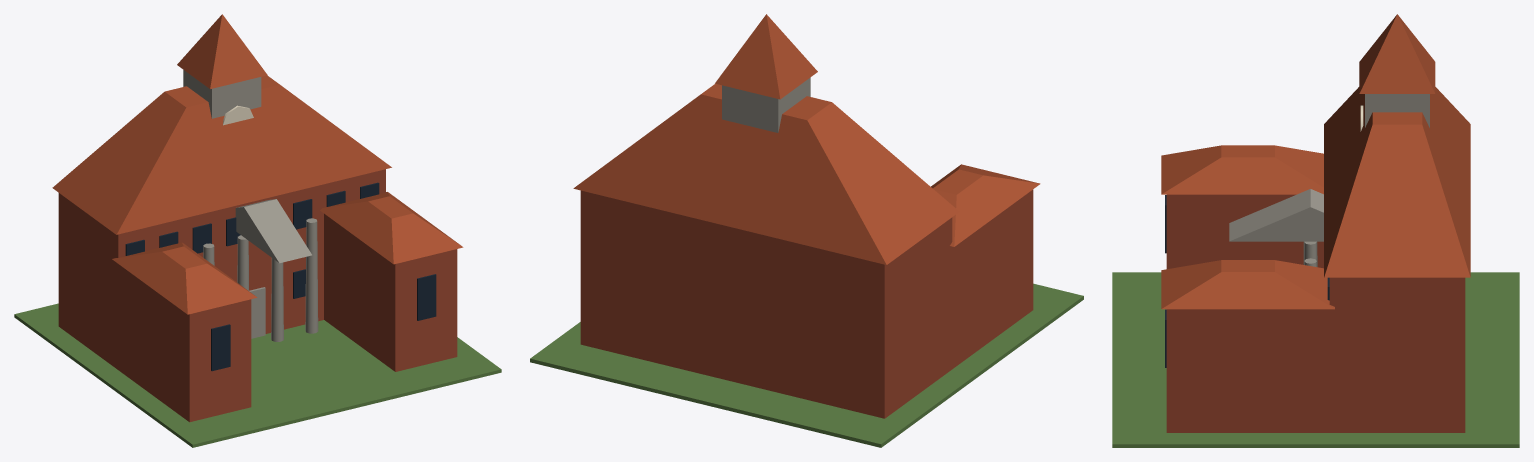
The model's file is bld_special_university_a04_lod1.glb.
3 views of the same model, side by side, from view 1: azimuth 30°, elevation 25°; view 2: azimuth 150°, elevation 25°; view 3: azimuth 270°, elevation 25° (orthographic). The views are drawn at different scales.
Visible parts, largest first — view 1: body; view 2: body; view 3: body.
Boxes of the visible parts, x1=… form: body: x1=14, y1=14, x2=501, y2=447; body: x1=530, y1=14, x2=1083, y2=447; body: x1=1112, y1=14, x2=1519, y2=447.
Size of the model in its own units: 15 by 14.15 by 15.
